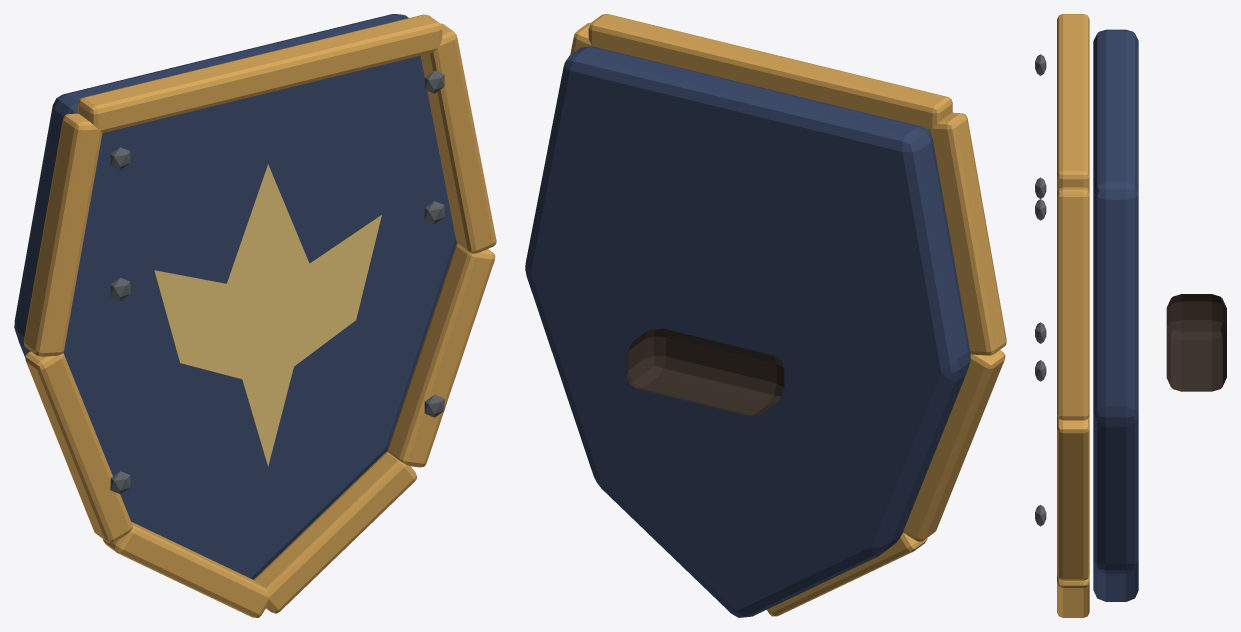
Rendered from shield.glb.
The picture shows the model from 3 angles, left to right: view 1: azimuth 30°, elevation 25°; view 2: azimuth 150°, elevation 25°; view 3: azimuth 270°, elevation 25°; orthographic projection. The views are drawn at different scales.
Parts seen in each view (by area): view 1: Shield blue field, Shield gold heraldry, Shield gold rim, Shield gold rim.006, Shield gold rim.002, Shield gold rim.001, Shield gold rim.003, Shield gold rim.005, Shield gold rim.004; view 2: Shield blue field, Shield gold rim, Shield hand grip, Shield gold rim.006, Shield gold rim.005, Shield gold rim.004; view 3: Shield blue field, Shield gold rim.001, Shield hand grip, Shield gold rim, Shield gold rim.002, Shield gold rim.003.
Boxes of the visible parts, x1,y1,x2,y2 form: Shield blue field: (14, 14, 456, 579); Shield gold heraldry: (154, 164, 381, 466); Shield gold rim: (78, 14, 442, 133); Shield gold rim.006: (23, 113, 102, 356); Shield gold rim.002: (387, 243, 495, 467); Shield gold rim.001: (421, 23, 496, 253); Shield gold rim.003: (254, 451, 417, 613); Shield gold rim.005: (25, 351, 132, 542); Shield gold rim.004: (103, 522, 268, 617); Shield blue field: (525, 46, 970, 617); Shield gold rim: (588, 14, 952, 130); Shield hand grip: (626, 328, 784, 415); Shield gold rim.006: (929, 112, 1006, 355); Shield gold rim.005: (903, 350, 1005, 541); Shield gold rim.004: (767, 533, 927, 616); Shield blue field: (1093, 29, 1138, 601); Shield gold rim.001: (1057, 187, 1089, 420); Shield hand grip: (1166, 294, 1226, 391); Shield gold rim: (1057, 14, 1089, 190); Shield gold rim.002: (1057, 416, 1089, 580); Shield gold rim.003: (1057, 575, 1089, 617).
Bounding box in the file's own units: 0.9968 × 1.14 × 0.3811.
